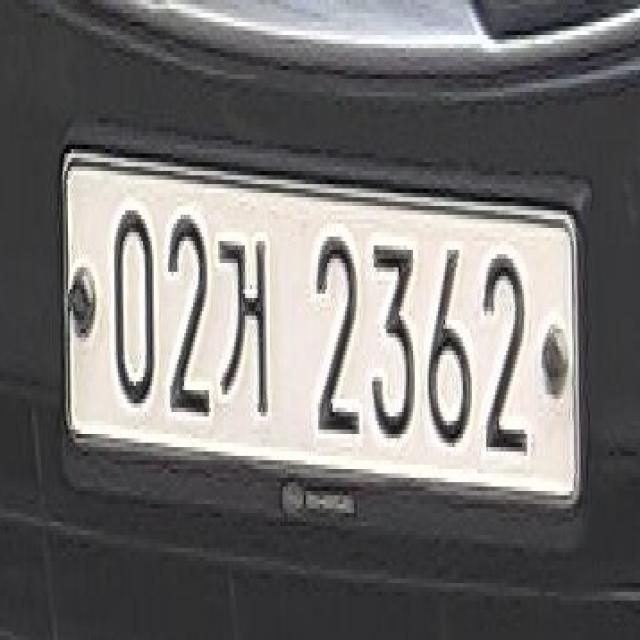0: (98, 185, 162, 418)
2: (484, 220, 532, 482), (310, 227, 362, 443), (167, 199, 211, 433)
3: (370, 233, 420, 451)
6: (424, 234, 478, 466)
geo: (217, 218, 281, 432)
license_plate: (54, 128, 600, 542)
